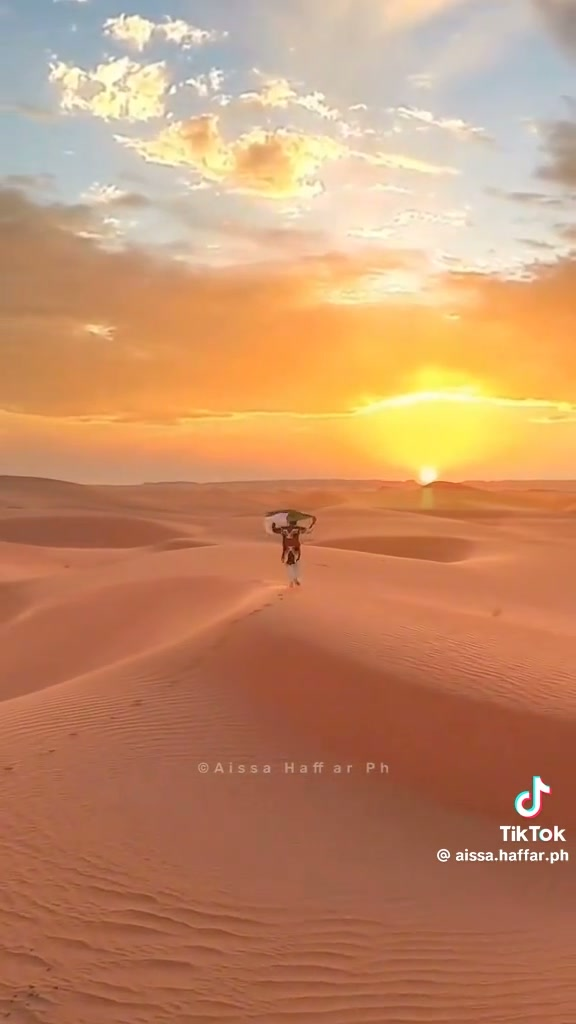human: (272, 516, 305, 586)
human_foot_print: (28, 735, 74, 772), (78, 708, 131, 729), (133, 690, 149, 713), (165, 673, 181, 690)
